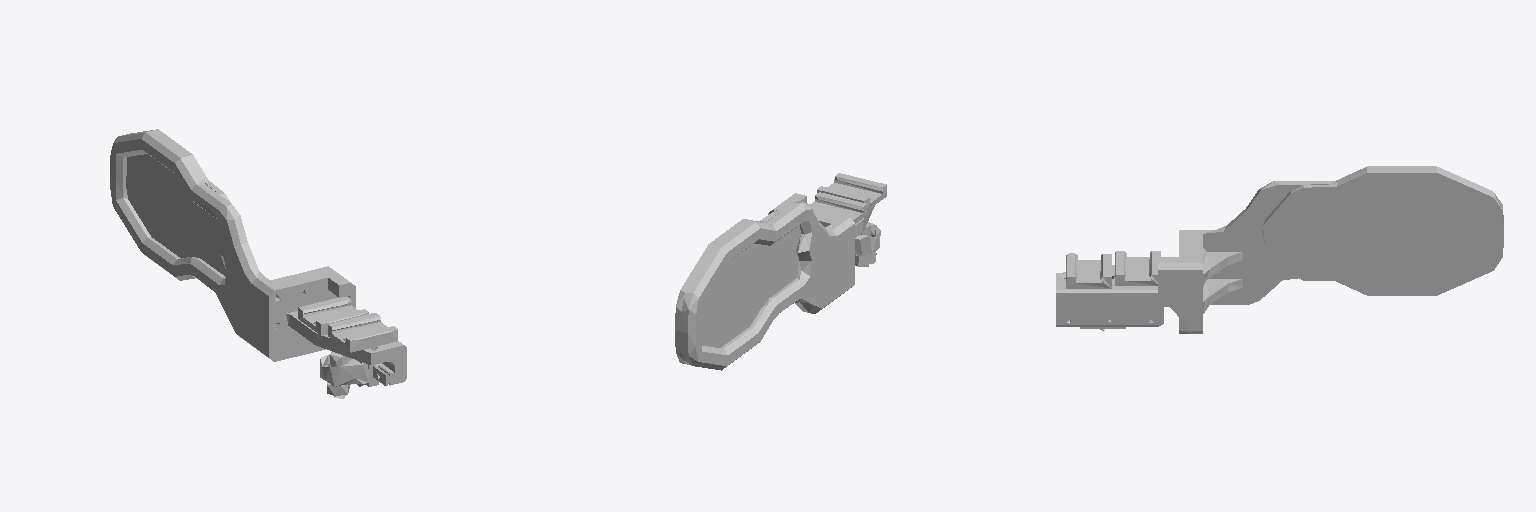
The model's file is gripper_finger_link.obj.
3 views of the same model, side by side, from view 1: azimuth 30°, elevation 25°; view 2: azimuth 150°, elevation 25°; view 3: azimuth 270°, elevation 25° (orthographic).
Visible parts, largest first — view 1: gripper_finger_link; view 2: gripper_finger_link; view 3: gripper_finger_link.
Boxes of the visible parts, x1=… form: gripper_finger_link: x1=110, y1=129, x2=406, y2=398; gripper_finger_link: x1=675, y1=173, x2=886, y2=370; gripper_finger_link: x1=1056, y1=166, x2=1503, y2=333.
Bounding box in the file's own units: 0.0327 × 0.06 × 0.165.